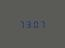seven: (18, 20, 24, 28), (39, 20, 45, 28)
three: (25, 20, 31, 28)
zero: (32, 20, 38, 28)
